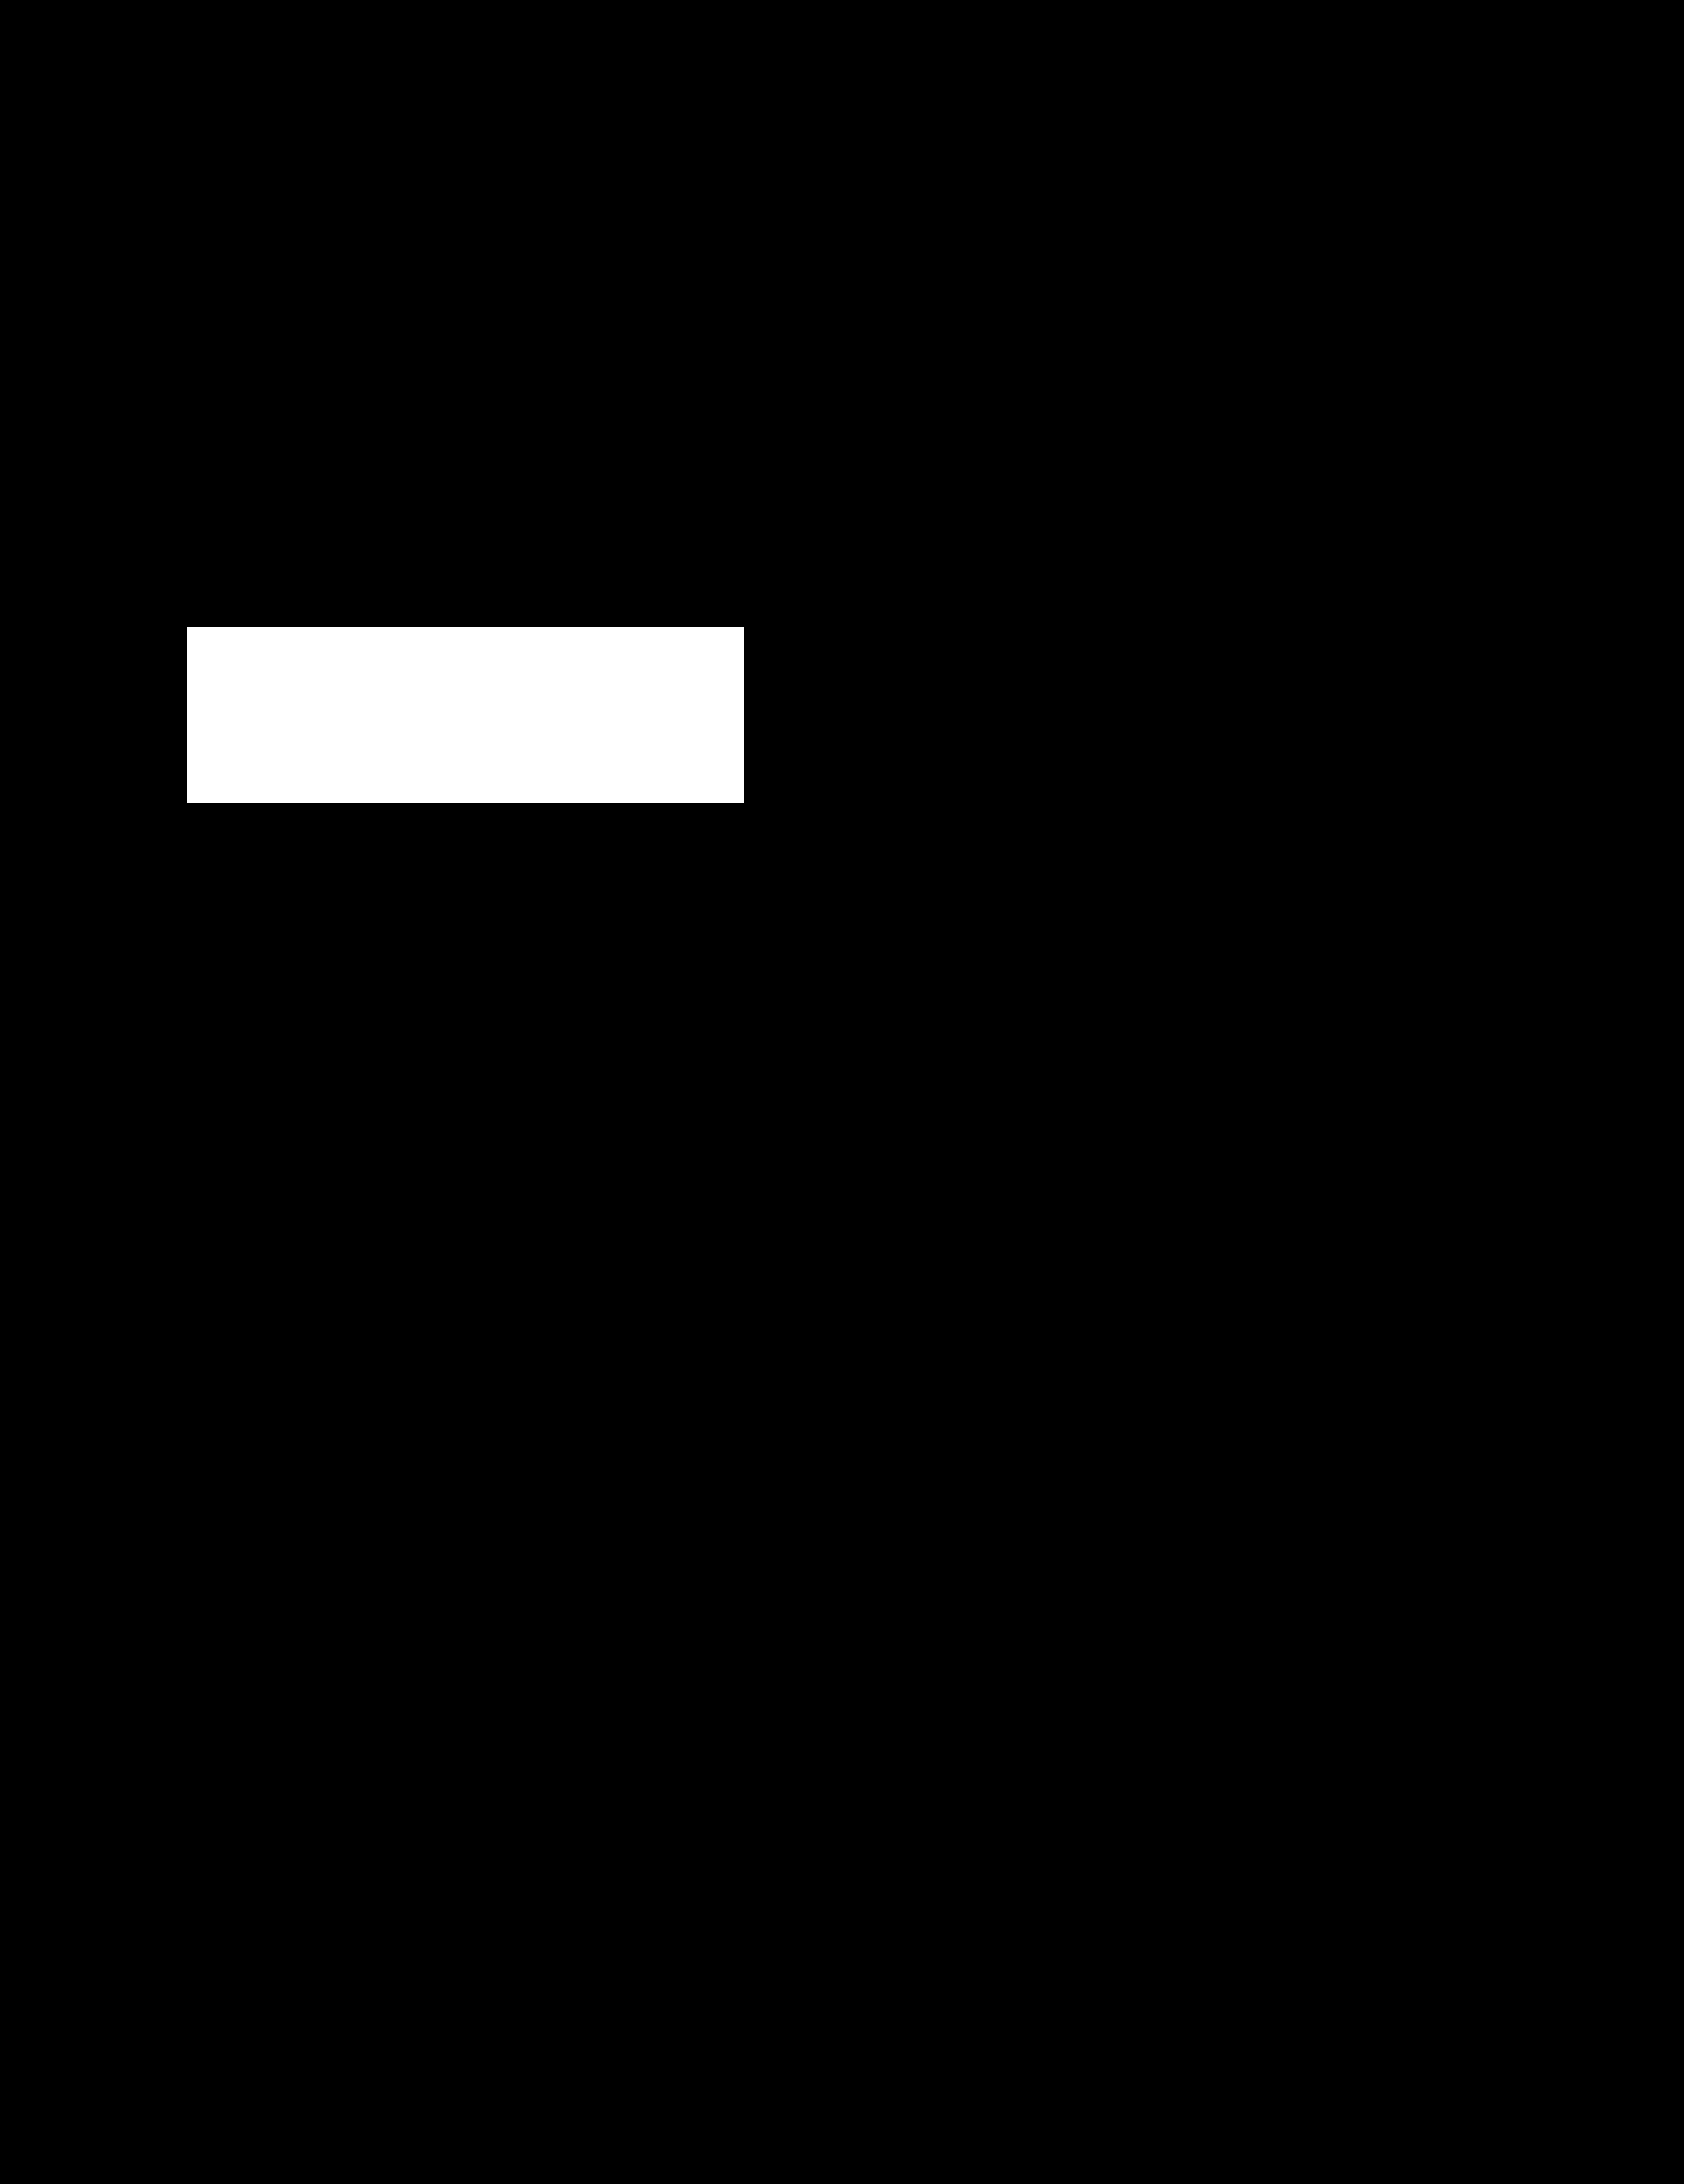table: (188, 626, 743, 803)
